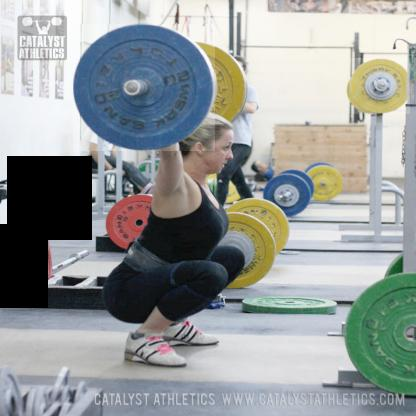barbell: (75, 25, 217, 152), (350, 59, 411, 115)
